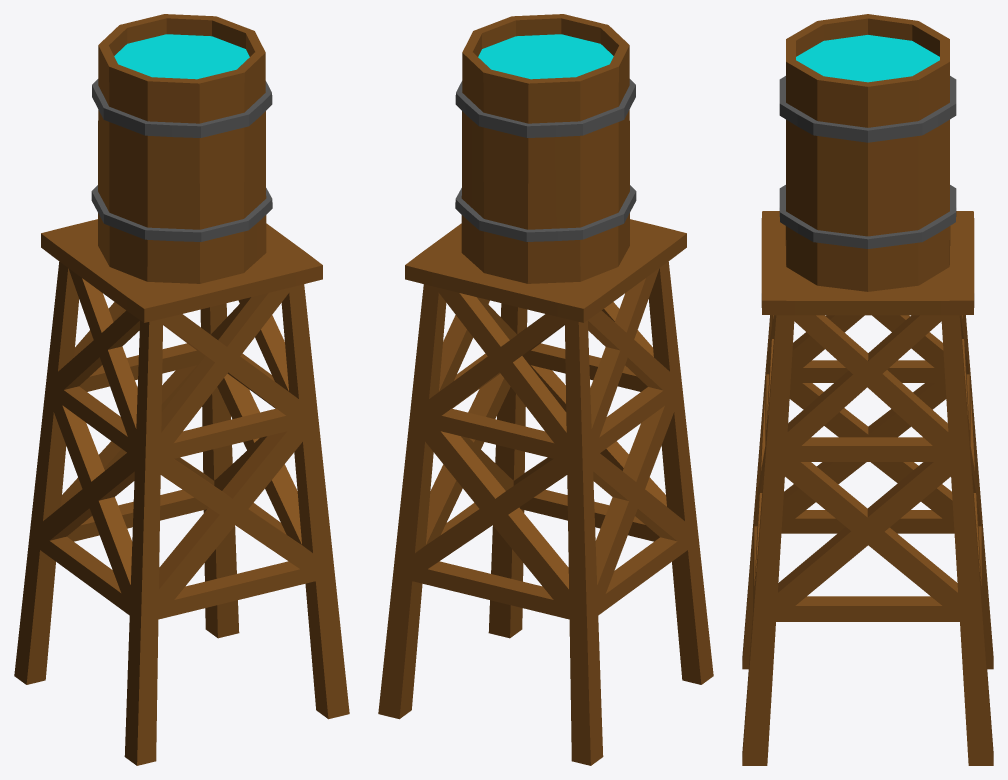
The model's file is Water_Tower.fbx.
3 views of the same model, side by side, from view 1: azimuth 30°, elevation 25°; view 2: azimuth 150°, elevation 25°; view 3: azimuth 270°, elevation 25° (orthographic). The views are drawn at different scales.
Visible parts, largest first — view 1: Water_Tower; view 2: Water_Tower; view 3: Water_Tower.
Part boxes in pixels (bbox=[...]): Water_Tower: bbox=[14, 14, 349, 765]; Water_Tower: bbox=[378, 14, 713, 765]; Water_Tower: bbox=[742, 14, 993, 765].
Size of the model in its own units: 8.01 by 23.27 by 8.01.
